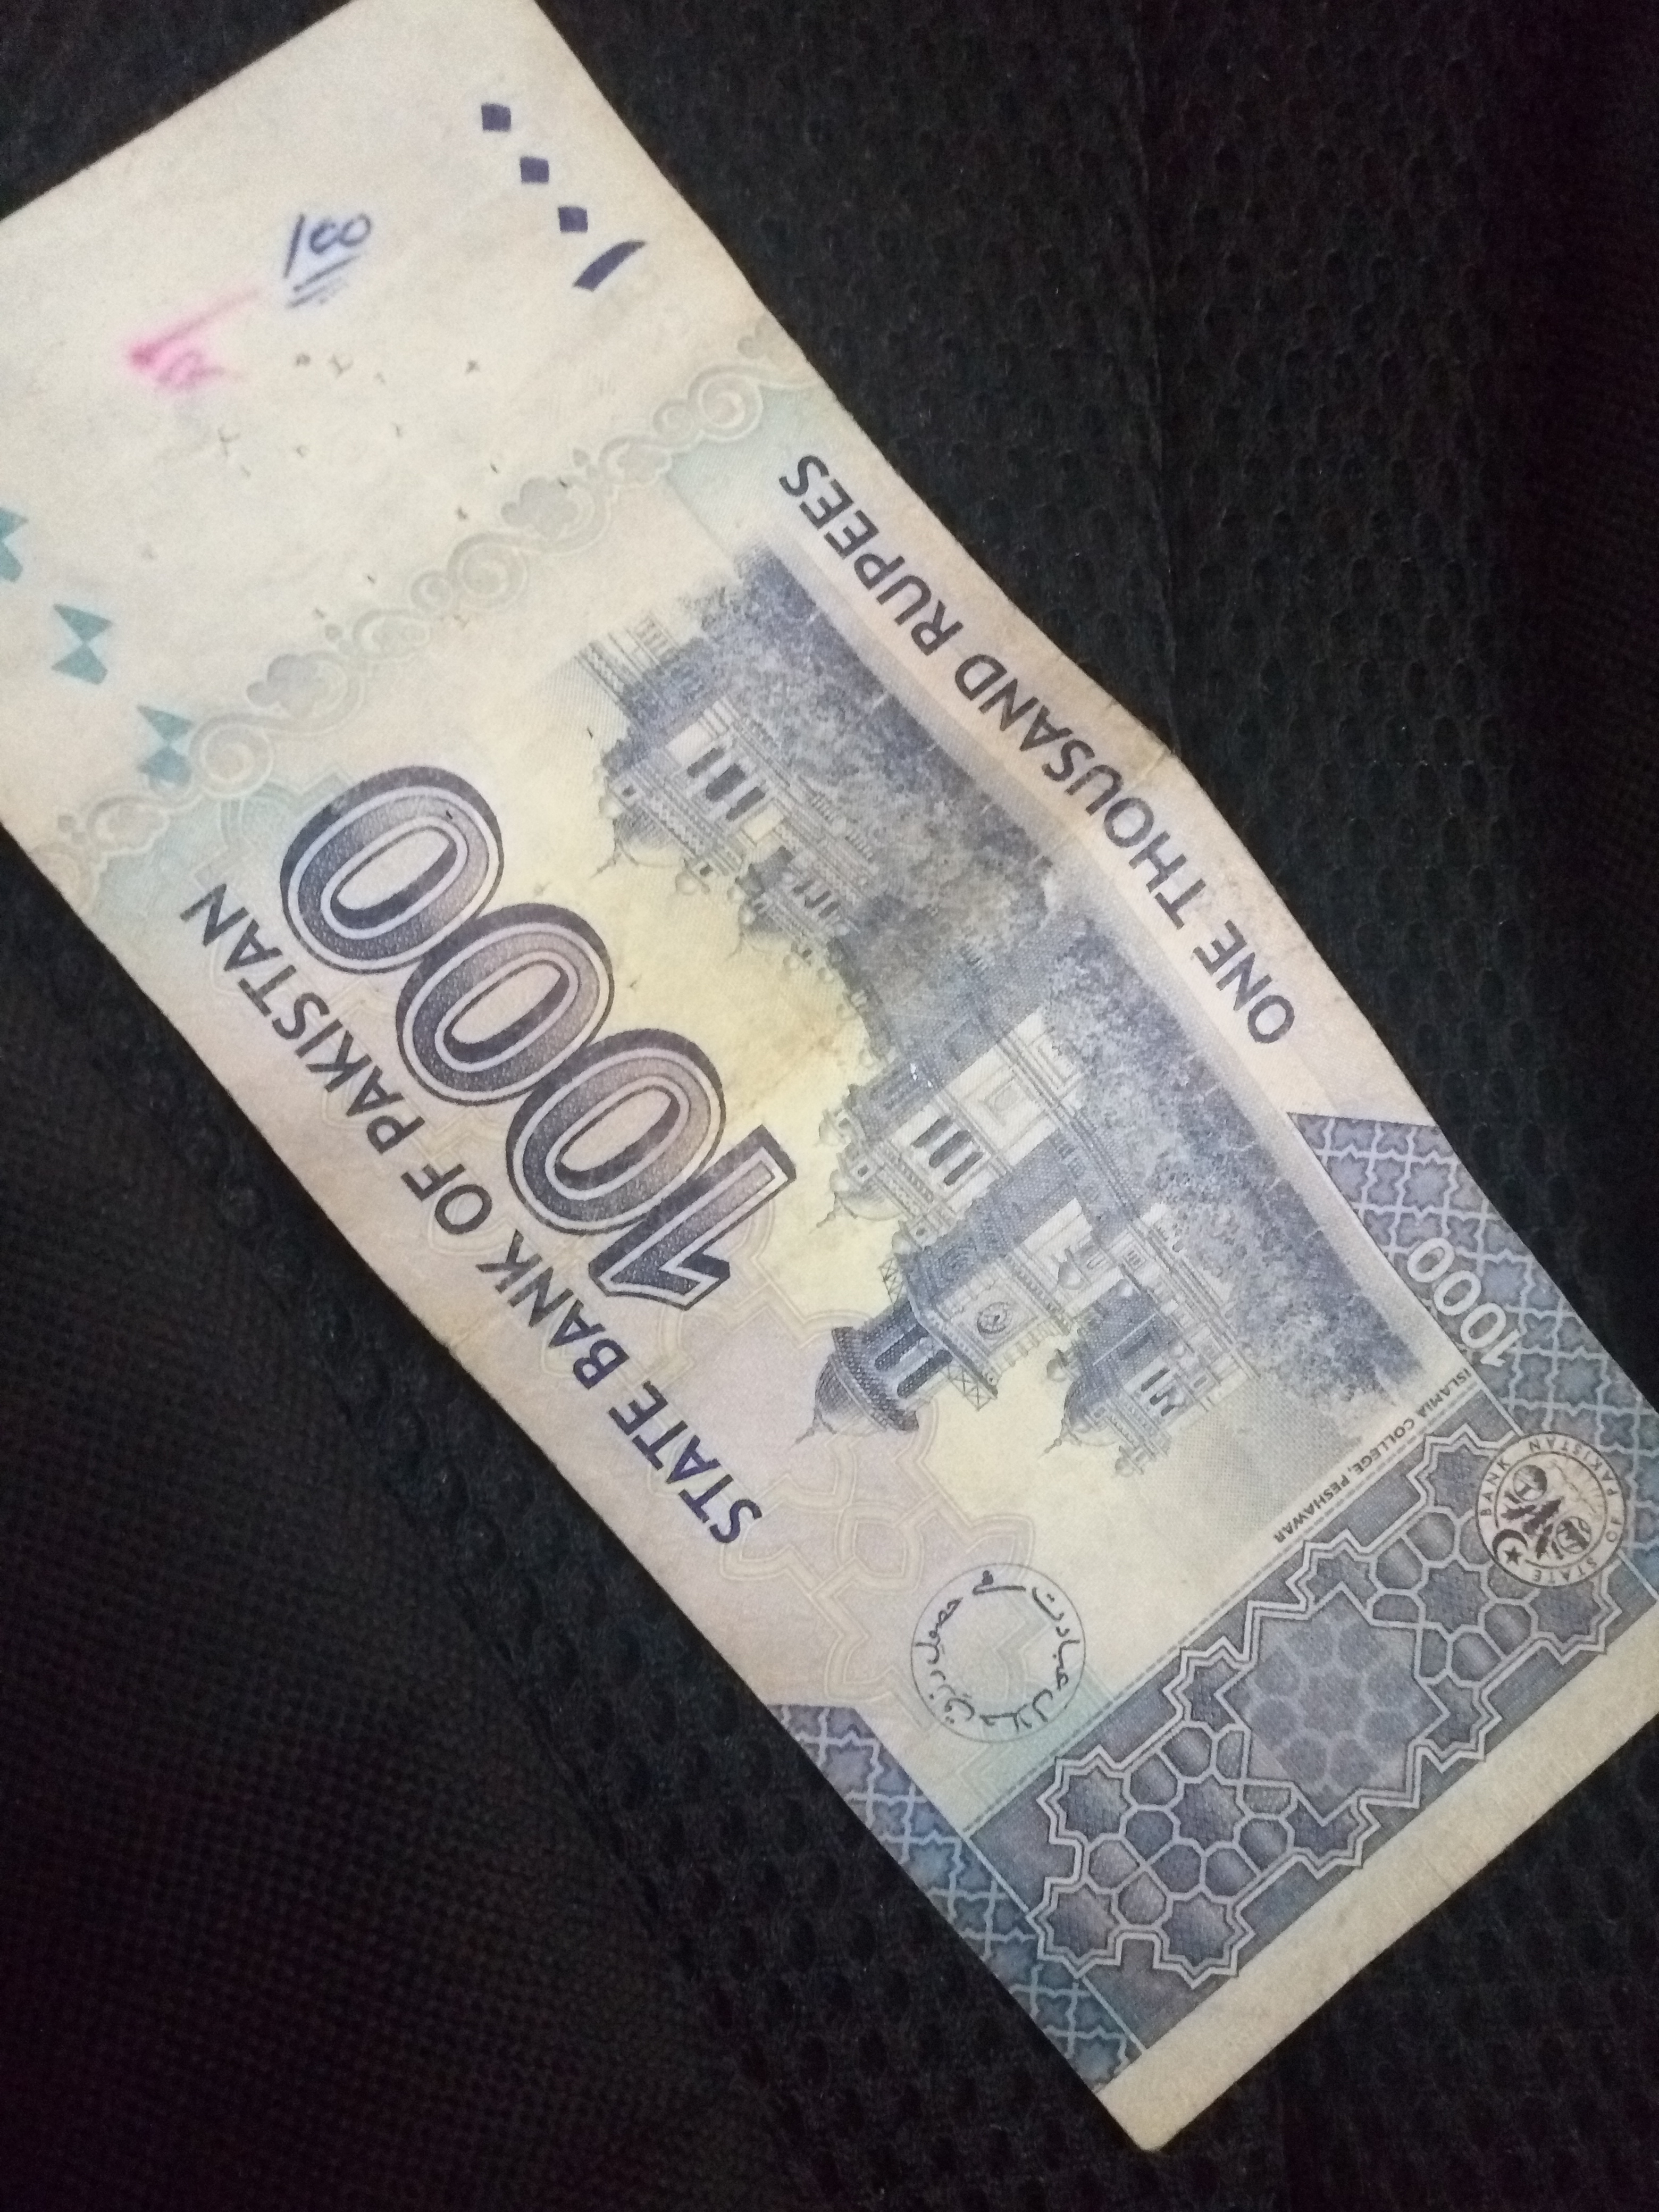1000 rupee: (30, 23, 1635, 2095)
